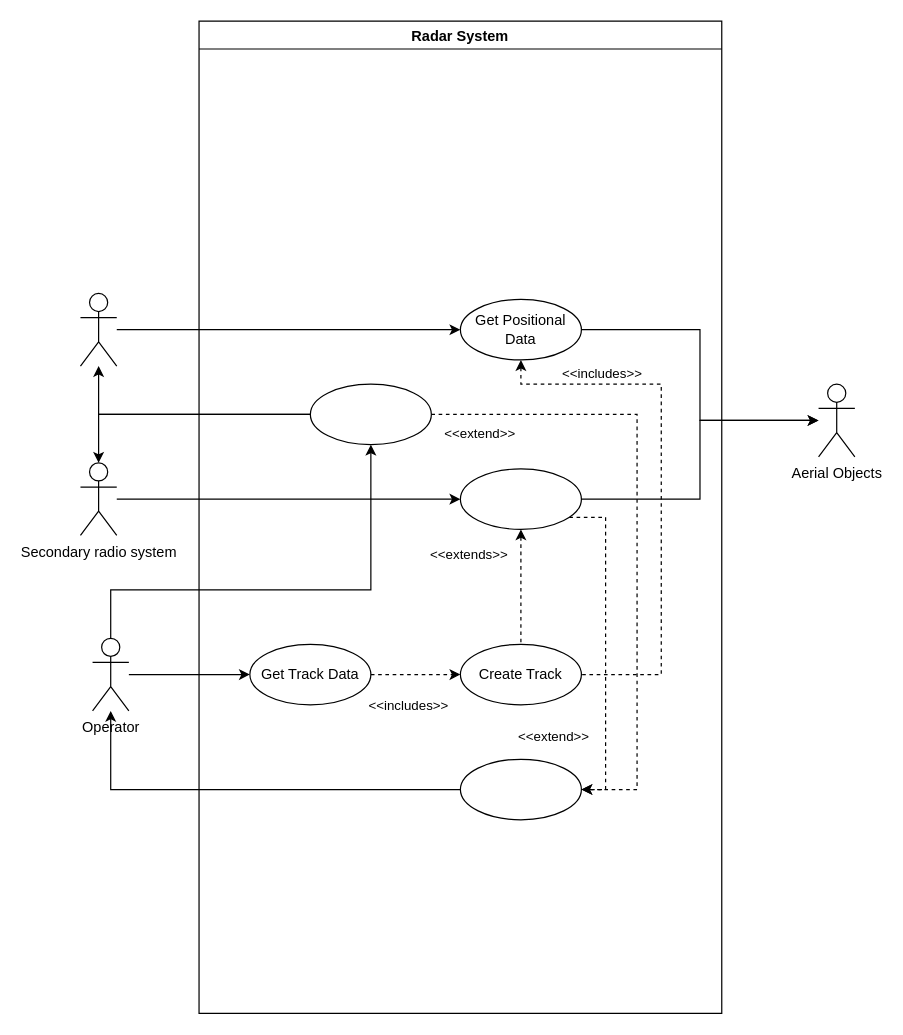
Image size: 903x1035. Some labels were removed from this diagram. The shapes that lost their labels are listed below. From the top down, each one's centre as x and y in pixels, then its label:
At [98,329]: "Primary Radio system".
At [370,414]: "Get Status".
At [520,498]: "Get Identification Data".
At [520,789]: "Set Warning".
